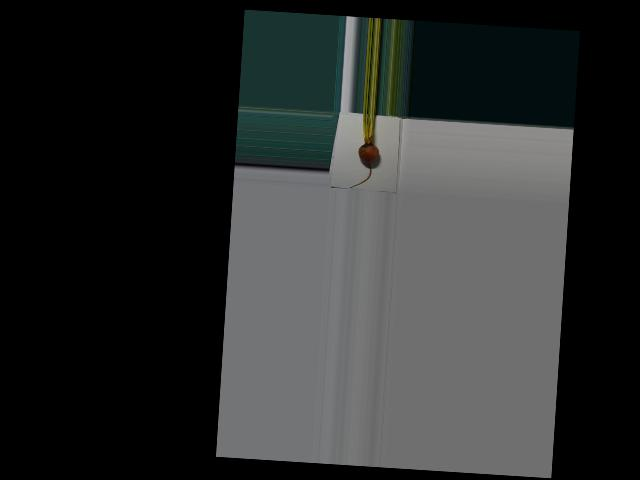beet: (350, 113, 381, 189)
